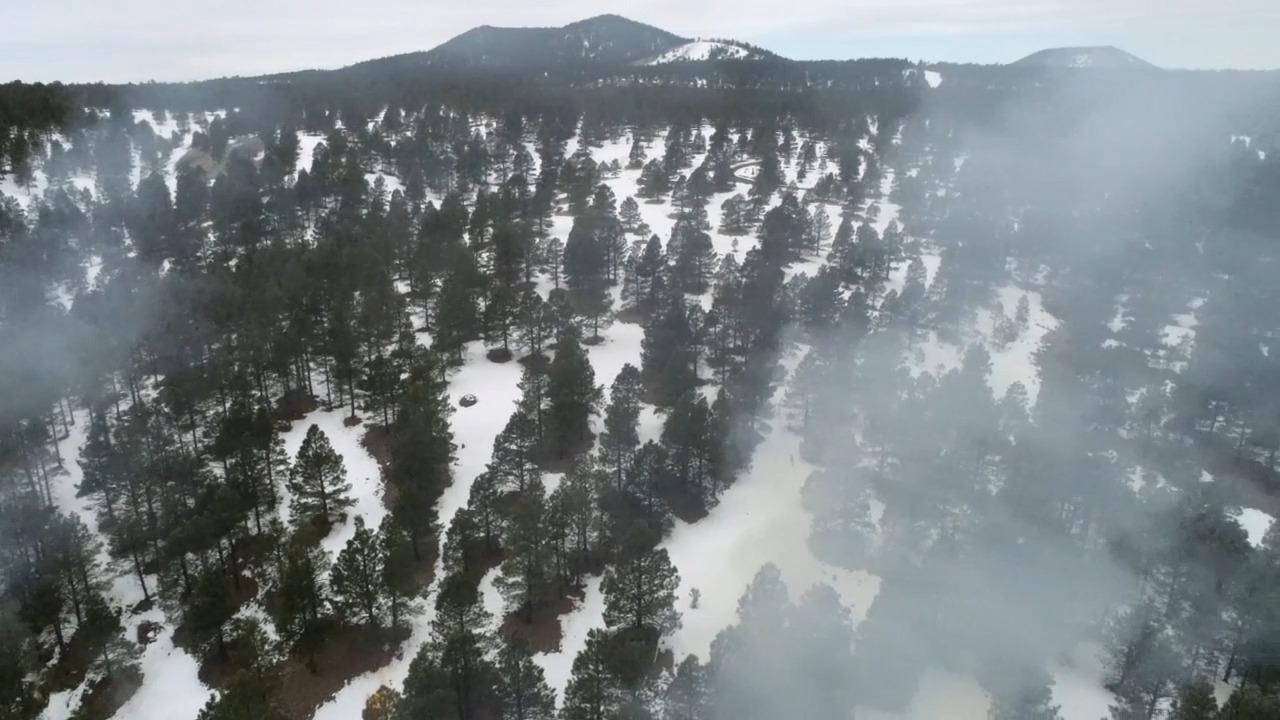smoke: (663, 59, 1280, 720), (0, 77, 262, 561)
